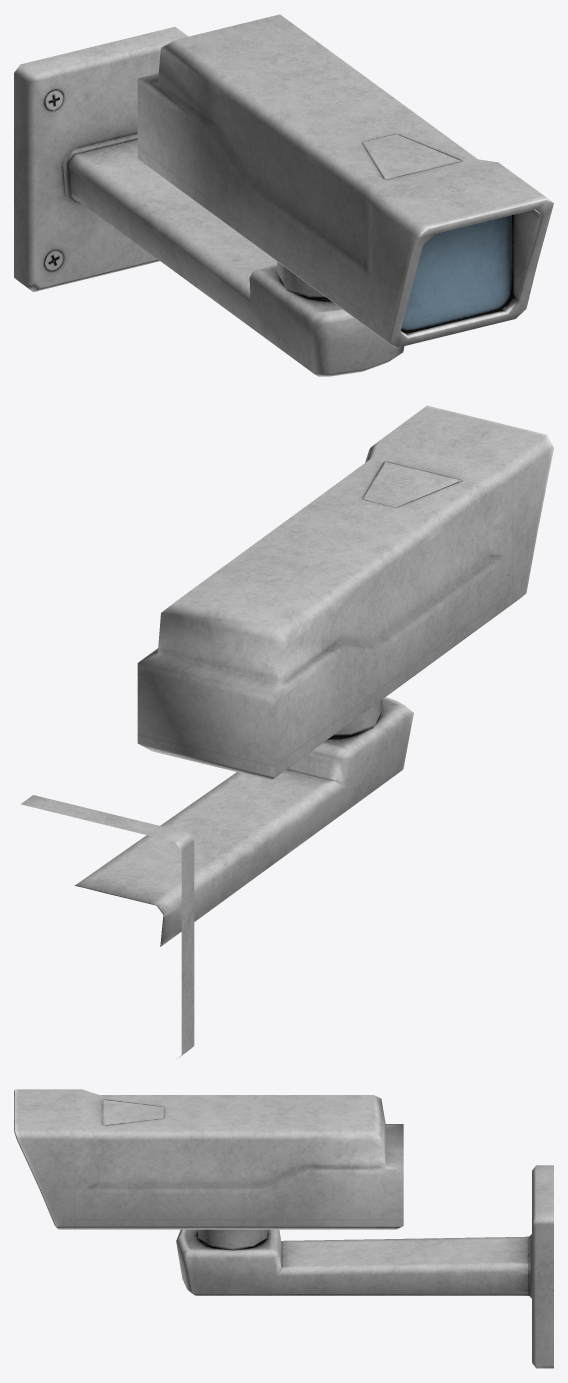
File: security-camera.glb
3 renders of one model, top to bottom at view 1: azimuth 30°, elevation 25°; view 2: azimuth 150°, elevation 25°; view 3: azimuth 270°, elevation 25°, orthographic. The views are drawn at different scales.
Parts seen in each view (by area): view 1: defaultMaterial_1, defaultMaterial_3, defaultMaterial_2; view 2: defaultMaterial_1, defaultMaterial_3; view 3: defaultMaterial_1, defaultMaterial_3, defaultMaterial_2.
Part boxes in pixels (<box>): defaultMaterial_1: <box>137,14,553,347</box>; defaultMaterial_3: <box>14,26,404,376</box>; defaultMaterial_2: <box>277,262,329,299</box>; defaultMaterial_1: <box>137,405,553,780</box>; defaultMaterial_3: <box>21,697,413,1059</box>; defaultMaterial_1: <box>14,1089,403,1229</box>; defaultMaterial_3: <box>176,1165,553,1368</box>; defaultMaterial_2: <box>198,1229,267,1250</box>.
Bounding box in the file's own units: 0.4962 × 0.9521 × 2.
Materials: 1 (1 with a texture image).
